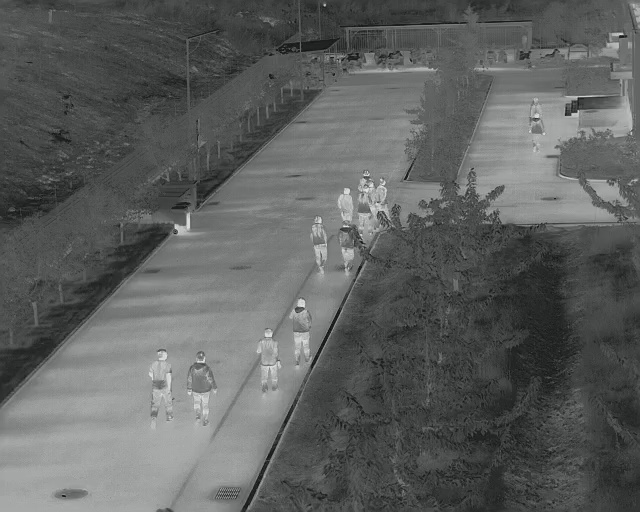person: (186, 348, 220, 427), (147, 345, 176, 431), (288, 294, 315, 370), (254, 327, 283, 394), (309, 214, 331, 276), (337, 221, 356, 278), (527, 111, 546, 156), (357, 184, 370, 236), (337, 186, 354, 221), (374, 177, 390, 212)
